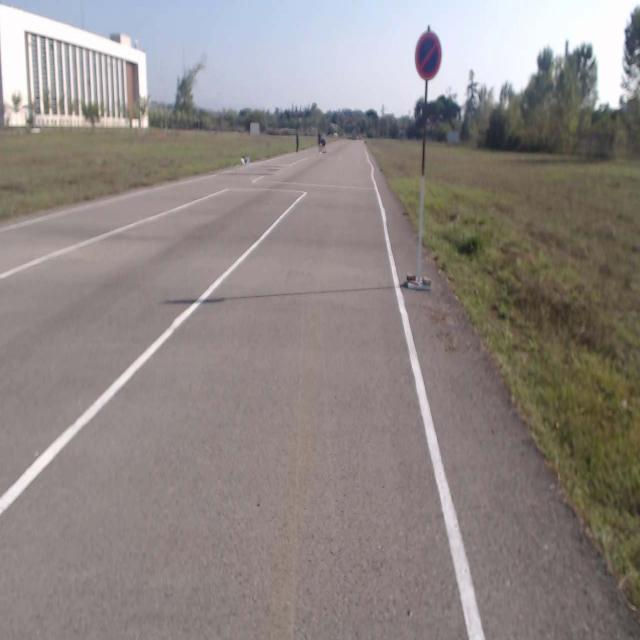parkyasak: (415, 31, 441, 79)
